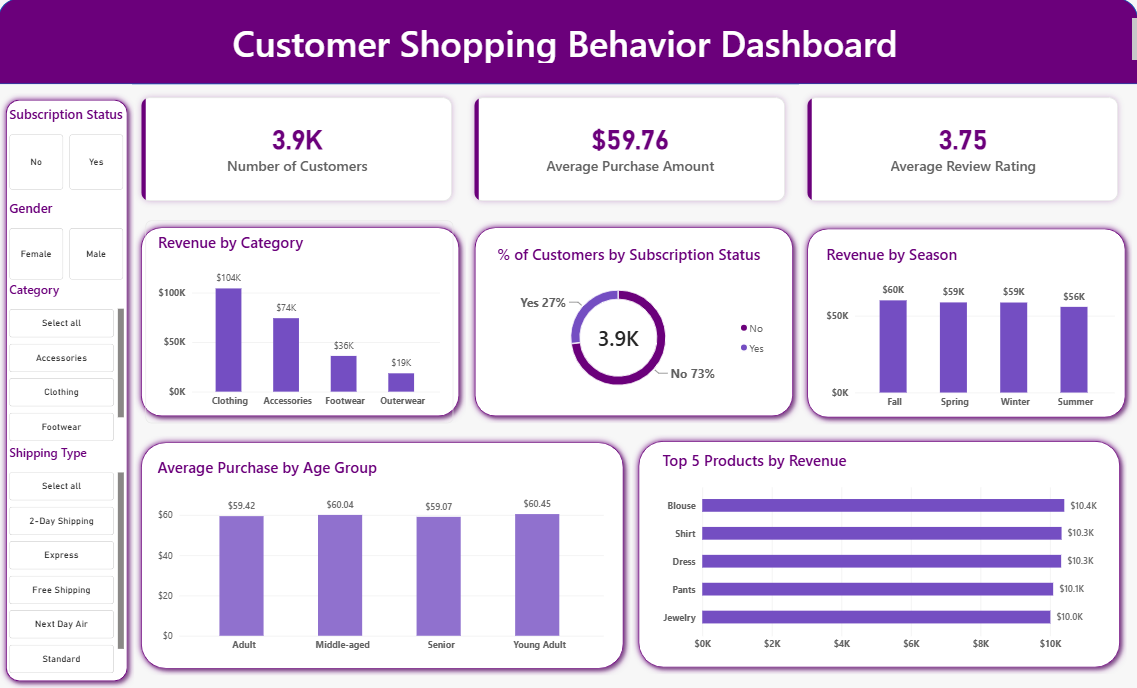

The page's visual inventory and layout, read from the dashboard file:
{"tool":"powerbi","page":{"name":"Page 1","canvas":[1520,920],"ordinal":0},"visuals":[{"type":"cardVisual","fields":{"Data":["public customer.Number of Customers","public customer.Average Purchase Amount","public customer.Average Review Rating"]},"box":[180.6,121,1325,160.8],"z":0},{"type":"shape","box":[0,0,1510,115],"z":1000},{"type":"textbox","box":[0,26.7,1510,60],"z":2000},{"type":"group","id":"g1","title":"Group 1","box":[182,297,442.9,270],"z":3000},{"type":"shape","box":[626.3,297,442.2,270.2],"z":3000,"group":"g2"},{"type":"shape","box":[1070.6,297.7,442.2,270.2],"z":3000,"group":"g5"},{"type":"group","id":"g2","title":"Group 2","box":[626.3,297,441.4,270],"z":4000},{"type":"donutChart","title":"% of Customers by Subscription Status","fields":{"Category":["public customer.subscription_status"],"Y":["CountNonNull(public customer.customer_id)"]},"box":[648.8,313.1,397.2,238],"z":4000,"group":"g2"},{"type":"shape","box":[1.7,126.7,180,793.3],"z":5000},{"type":"shape","box":[182,297.4,442.2,270.2],"z":5000,"group":"g1"},{"type":"shape","box":[845,581.7,660,320],"z":5000,"group":"g4"},{"type":"shape","box":[182,584.1,661.4,320],"z":5000,"group":"g3"},{"type":"advancedSlicerVisual","title":"Subscription Status","fields":{"Values":["public customer.subscription_status"]},"box":[15,143.3,153.3,113.3],"z":6000},{"type":"clusteredBarChart","title":"Top 5 Products by Revenue","fields":{"Category":["public customer.item_purchased"],"Y":["Sum(public customer.purchase_amount)"]},"box":[870,588.9,626.7,301.7],"z":6000,"group":"g4"},{"type":"advancedSlicerVisual","title":"Gender","fields":{"Values":["public customer.gender"]},"box":[15,268.3,153.3,108.3],"z":7000},{"type":"clusteredColumnChart","title":"Revenue by Category","fields":{"Category":["public customer.category"],"Y":["Sum(public customer.purchase_amount)"]},"box":[197.8,297,410,270],"z":7000,"group":"g1"},{"type":"advancedSlicerVisual","title":"Category","fields":{"Values":["public customer.category"]},"box":[15,376.7,153.3,216.7],"z":8000},{"type":"advancedSlicerVisual","fields":{"Values":["public customer.shipping_type"]},"box":[15,595,153.3,306.7],"z":9000},{"type":"group","id":"g3","title":"Group 4","box":[182,584.1,661.4,320],"z":10000},{"type":"clusteredColumnChart","title":"Revenue by Season","fields":{"Category":["public customer.season"],"Y":["Sum(public customer.purchase_amount)"]},"box":[1088.9,312.7,416.7,253.3],"z":10001,"group":"g5"},{"type":"columnChart","title":"Average Purchase by Age Group","fields":{"Category":["public customer.age_group"],"Y":["Avg(public customer.purchase_amount)"]},"box":[197.7,597,627.1,294.3],"z":10001,"group":"g3"},{"type":"group","id":"g4","title":"Group 3","box":[845,581.7,660,320],"z":11000},{"type":"group","id":"g5","title":"Group 5","box":[1070.6,297.7,442.2,270.2],"z":12000}]}

Visuals, with their boxes in screenshot pixels (x1, y1, x2, y2), scaled from the page's 1520x920 canvas onto the 1137x688 screenshot:
cardVisual - public customer.Number of Customers x public customer.Average Purchase Amount: 135:90:1126:211
shape: 0:0:1130:86
textbox: 0:20:1130:65
"Group 1" group: 136:222:467:424
shape: 468:222:799:424
shape: 801:223:1132:425
"Group 2" group: 468:222:799:424
"% of Customers by Subscription Status" donutChart: 485:234:782:412
shape: 1:95:136:687
shape: 136:222:467:424
shape: 632:435:1126:674
shape: 136:437:631:676
"Subscription Status" advancedSlicerVisual: 11:107:126:192
"Top 5 Products by Revenue" clusteredBarChart: 651:440:1120:666
"Gender" advancedSlicerVisual: 11:201:126:282
"Revenue by Category" clusteredColumnChart: 148:222:455:424
"Category" advancedSlicerVisual: 11:282:126:444
advancedSlicerVisual - public customer.shipping_type: 11:445:126:674
"Group 4" group: 136:437:631:676
"Revenue by Season" clusteredColumnChart: 815:234:1126:423
"Average Purchase by Age Group" columnChart: 148:446:617:667
"Group 3" group: 632:435:1126:674
"Group 5" group: 801:223:1132:425
